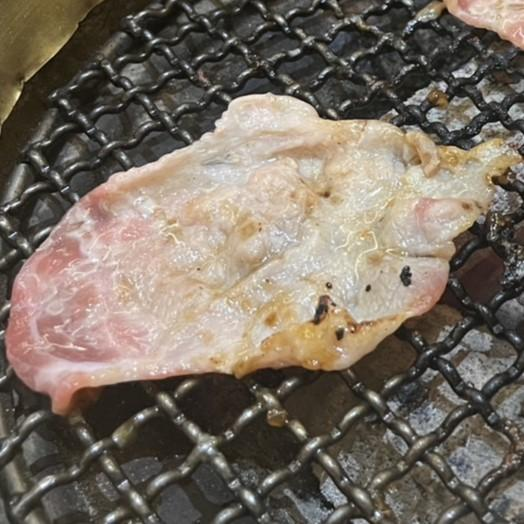Undercooked: (5, 95, 523, 417)
